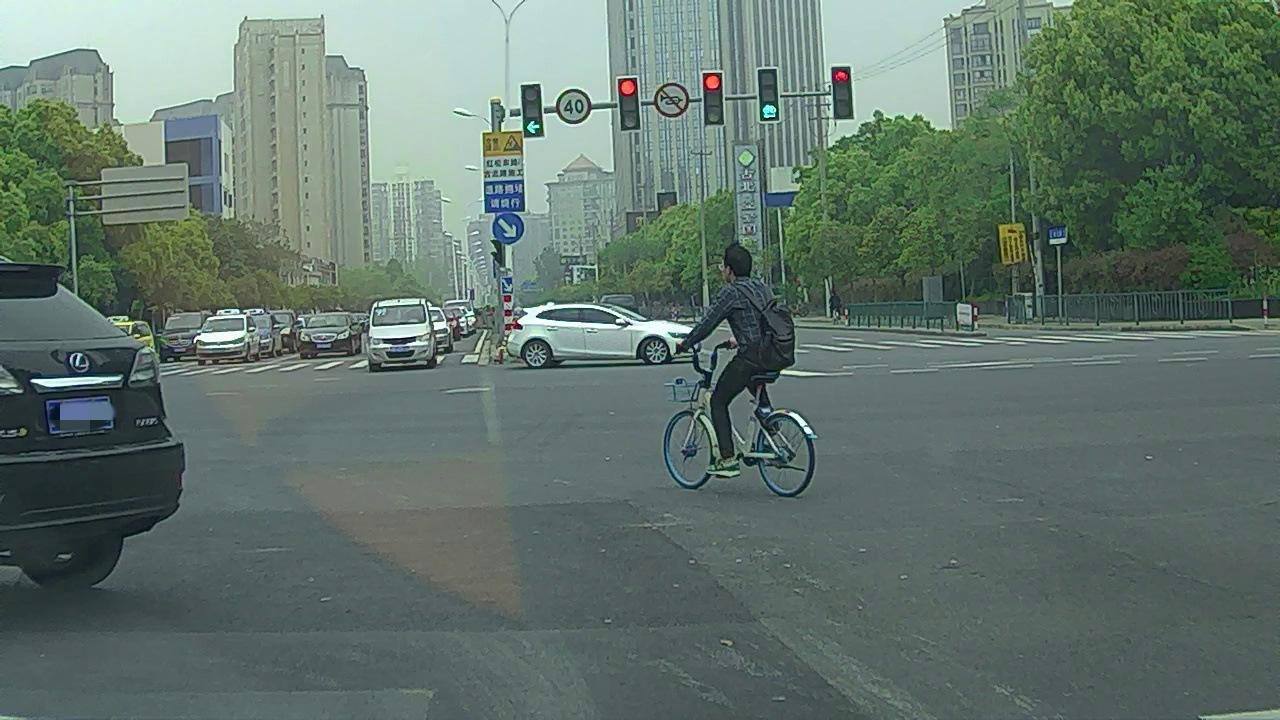traffic_light: (520, 84, 543, 137), (618, 75, 640, 130), (758, 68, 779, 122), (832, 67, 853, 118), (703, 71, 723, 123)
